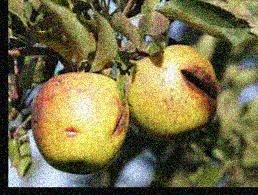rotten apple: (126, 42, 231, 164), (29, 73, 130, 175)
